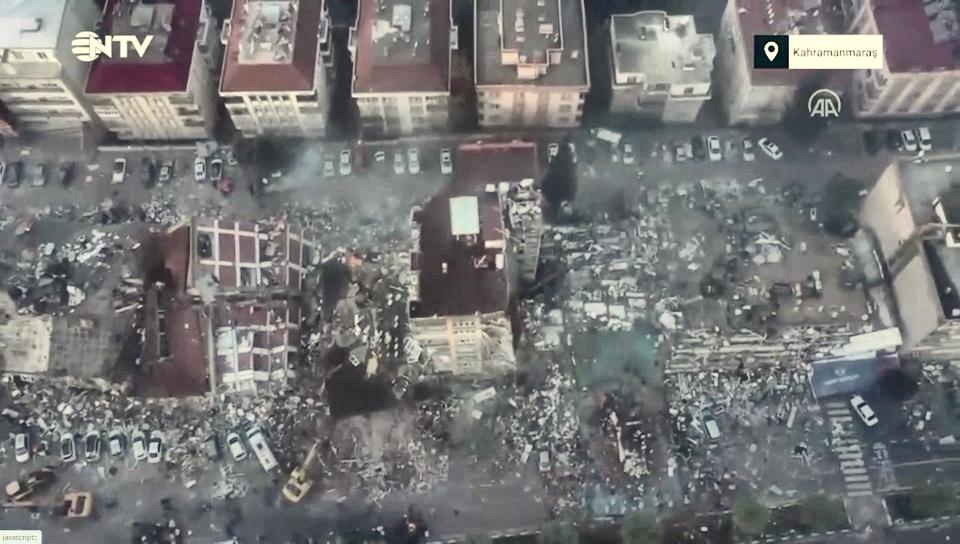kapali: (495, 374, 791, 536)
